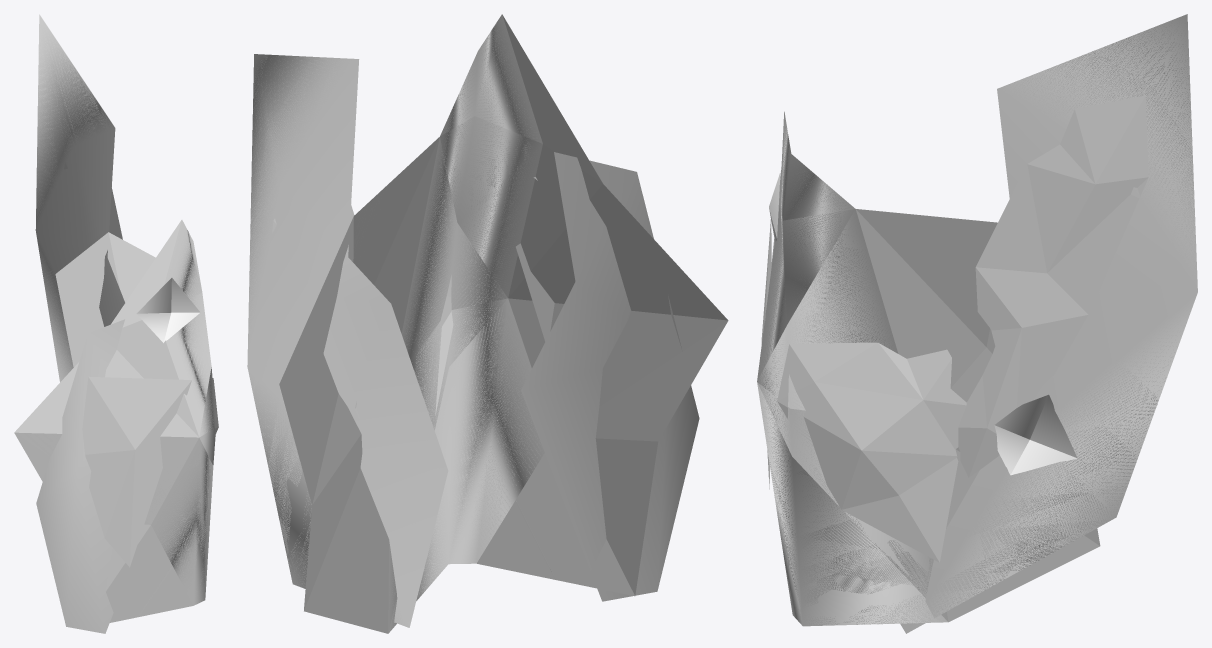
The model's file is SM_Env_Ivy_Flowers_12.glb.
The picture shows the model from 3 angles, left to right: view 1: azimuth 30°, elevation 25°; view 2: azimuth 150°, elevation 25°; view 3: azimuth 270°, elevation 25°; orthographic projection. The views are drawn at different scales.
Visible parts, largest first — view 1: SM_Env_Ivy_Flowers_12; view 2: SM_Env_Ivy_Flowers_12; view 3: SM_Env_Ivy_Flowers_12.
Boxes of the visible parts, bbox=[...] form: SM_Env_Ivy_Flowers_12: bbox=[14, 14, 218, 633]; SM_Env_Ivy_Flowers_12: bbox=[247, 14, 728, 633]; SM_Env_Ivy_Flowers_12: bbox=[757, 14, 1197, 633].
Bounding box in the file's own units: 0.9168 × 2.12 × 1.37.
Materials: 1 (1 with a texture image).
